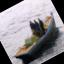fishing boat: (3, 9, 64, 64)
